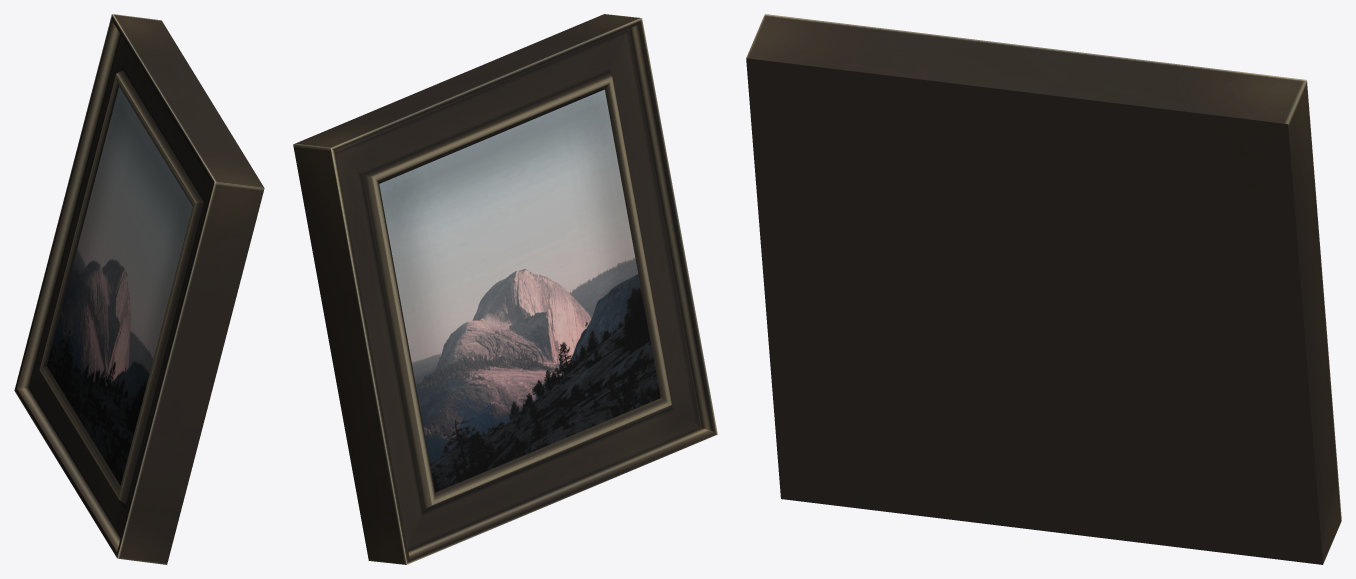
File: Frame02.FBX
The picture shows the model from 3 angles, left to right: view 1: azimuth 30°, elevation 25°; view 2: azimuth 150°, elevation 25°; view 3: azimuth 270°, elevation 25°; orthographic projection. The views are drawn at different scales.
Parts seen in each view (by area): view 1: Box114; view 2: Box114; view 3: Box114.
Part boxes in pixels (<box>): Box114: <box>14,14,264,564</box>; Box114: <box>293,14,717,564</box>; Box114: <box>746,14,1341,564</box>.
Bounding box in the file's own units: 80.6 × 130 × 137.
1 material, 1 textured.
